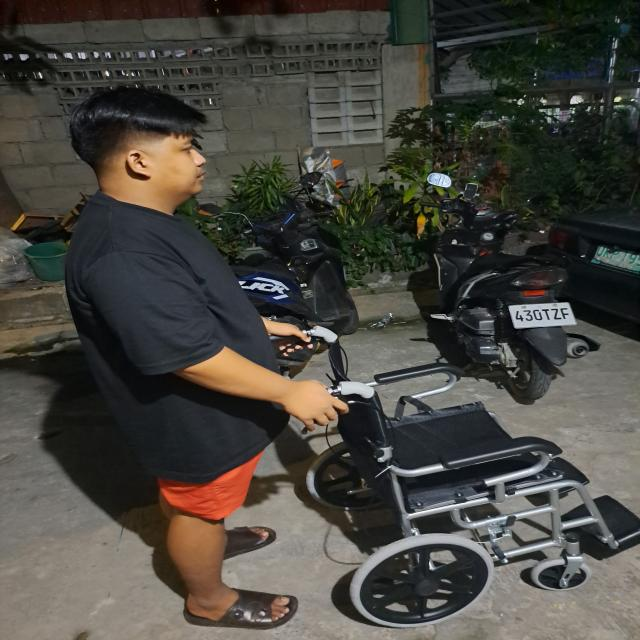wheelchairs: (282, 322, 640, 632)
